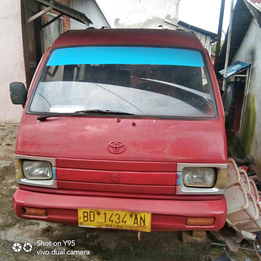plate: (78, 208, 152, 234)
